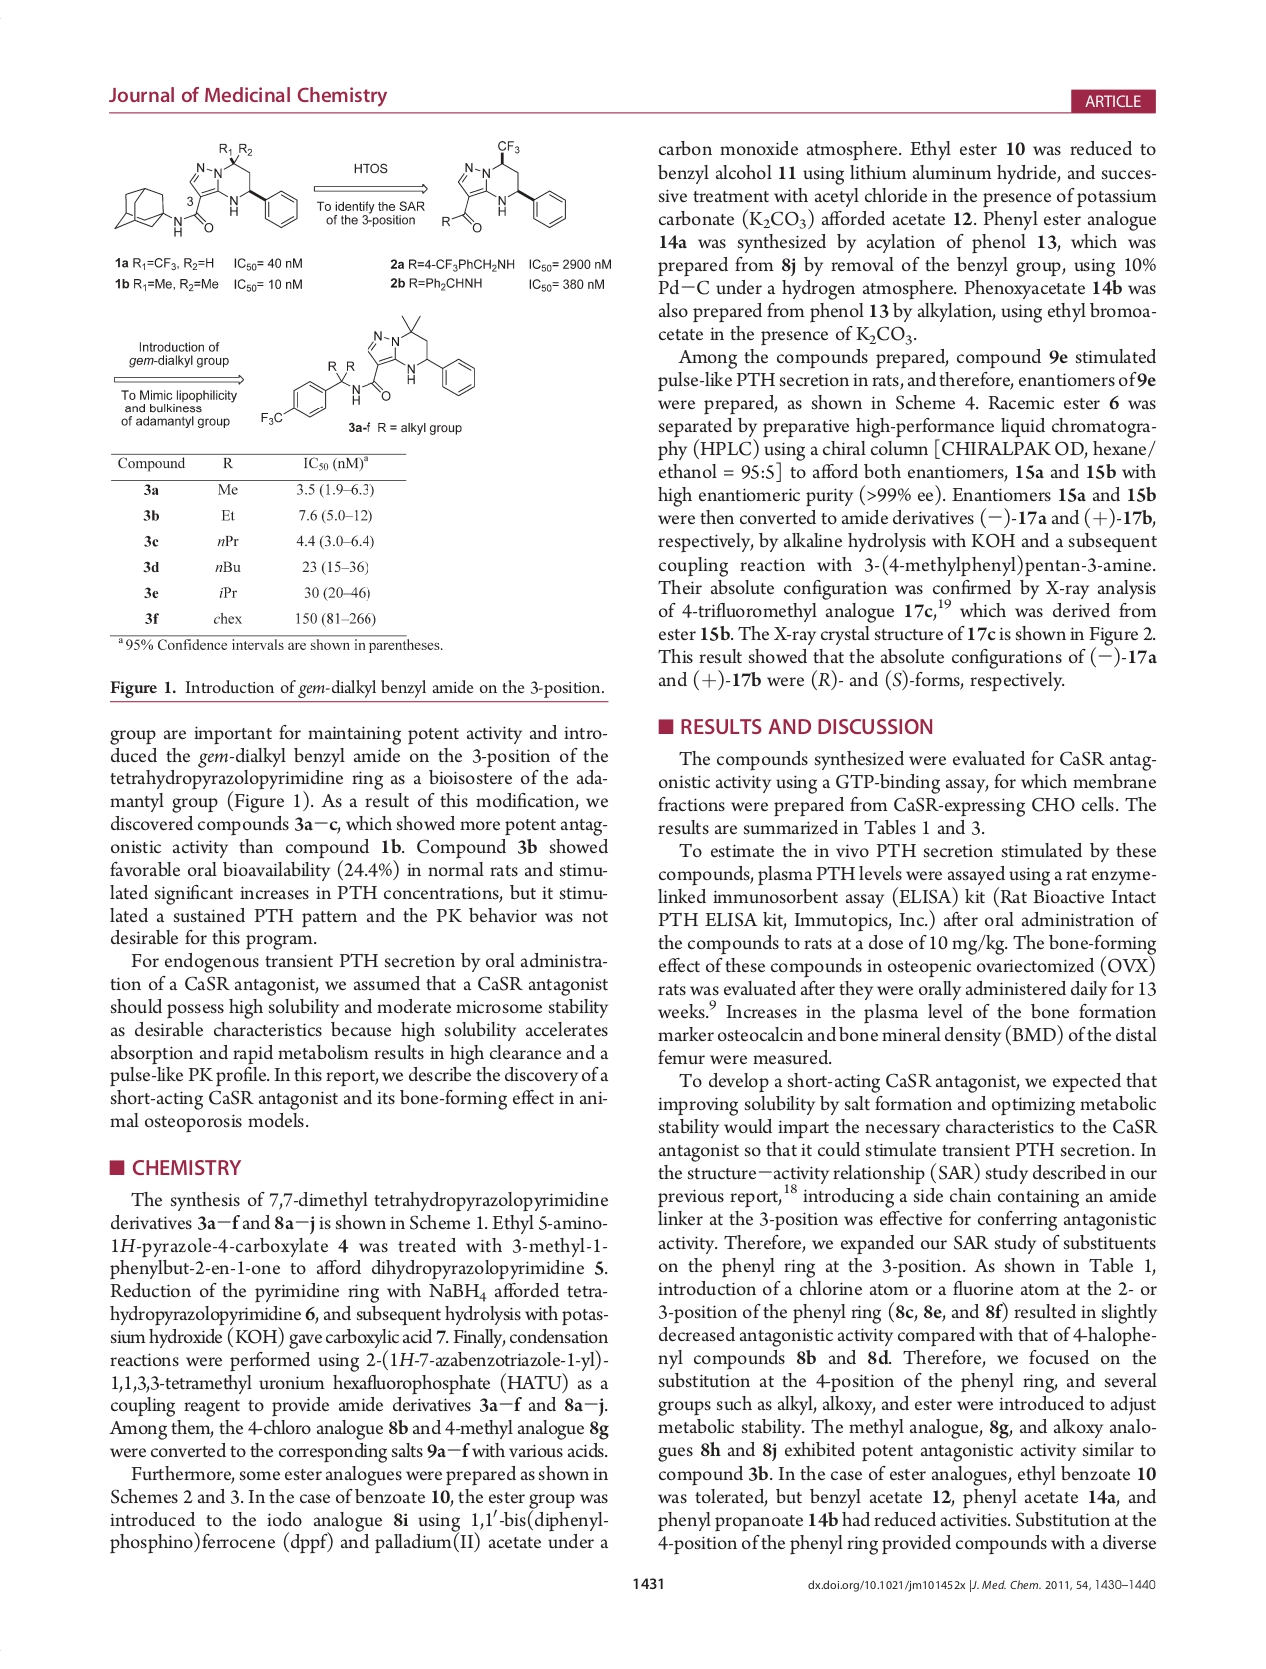exist_molecular: (258, 310, 479, 426), (113, 140, 301, 242), (436, 134, 572, 241)
